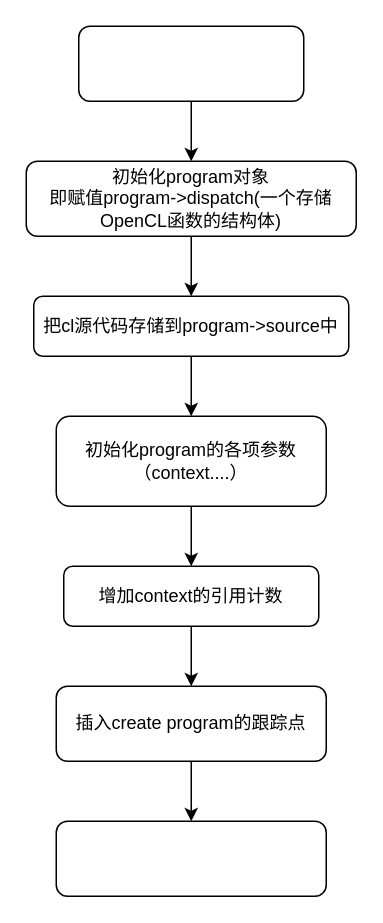
The diagram is 383 pixels wide and 923 high, and some of its shapes have lost their labels. Here are the shapes that lost their labels. From the top down, the box of each, then its label:
(77, 25, 304, 101): 给program分配内存空间
(55, 820, 326, 896): 原子递增program_c
